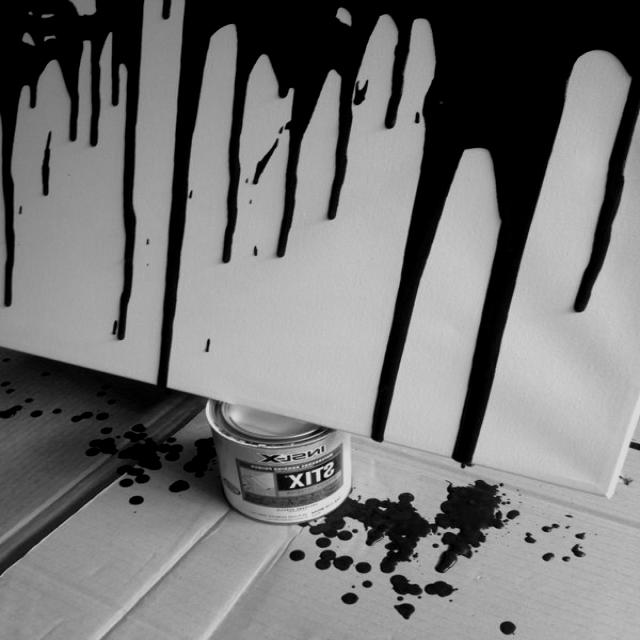paint drips: (365, 1, 634, 478), (157, 0, 382, 384), (9, 0, 149, 347), (376, 0, 410, 132), (157, 0, 177, 24)
